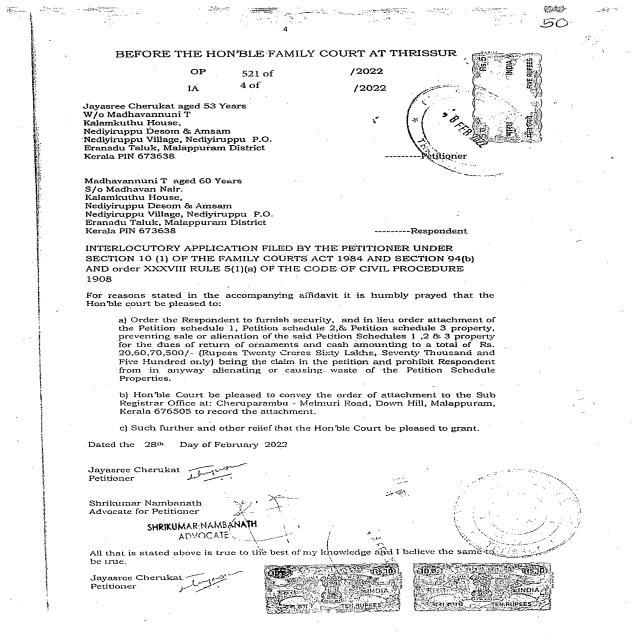page-number: (451, 0, 640, 47)
